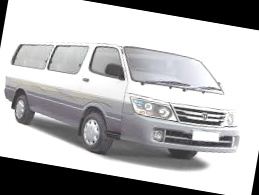van: (0, 6, 258, 172)
